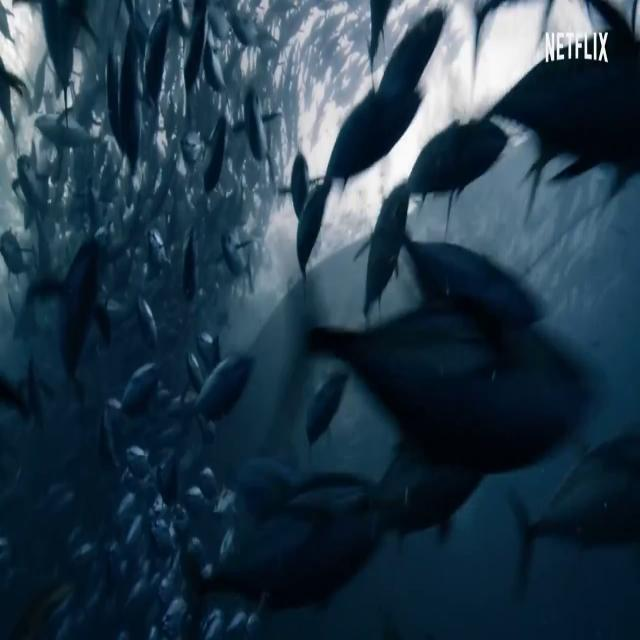fish: (308, 267, 576, 484), (176, 473, 384, 640), (495, 0, 640, 208), (505, 390, 640, 595), (389, 197, 536, 319), (26, 227, 105, 404), (399, 96, 506, 203), (350, 169, 420, 332), (31, 0, 99, 135), (381, 0, 449, 128), (188, 337, 262, 434), (292, 160, 340, 290), (114, 9, 147, 185), (171, 0, 211, 126), (236, 78, 280, 174), (170, 220, 207, 316), (200, 106, 231, 204)
